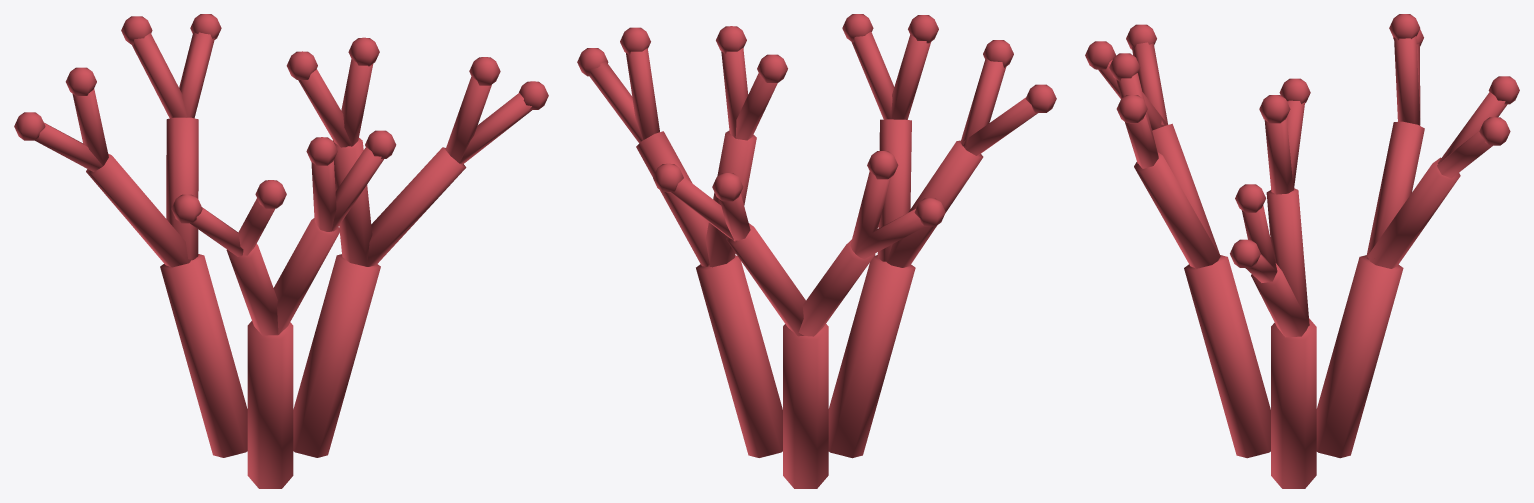
Rendered from v_ab_coral.glb.
3 views of the same model, side by side, from view 1: azimuth 30°, elevation 25°; view 2: azimuth 150°, elevation 25°; view 3: azimuth 270°, elevation 25° (orthographic).
Visible parts, largest first — view 1: Coral; view 2: Coral; view 3: Coral.
Boxes of the visible parts, x1,y1,x2,y2 form: Coral: [14, 14, 548, 488]; Coral: [577, 14, 1056, 488]; Coral: [1085, 14, 1519, 488].
Size of the model in its own units: 1.01 by 0.8918 by 0.8581.
